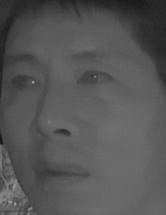eye: (74, 68, 116, 92), (8, 71, 43, 93)
mouth: (29, 155, 90, 192)
